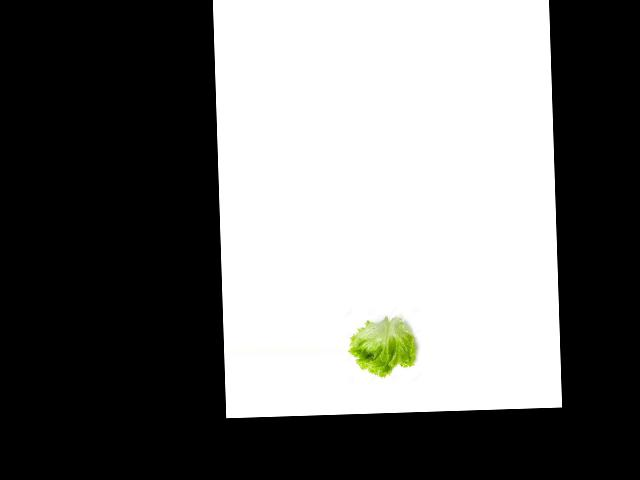lettuce: (345, 314, 423, 376)
